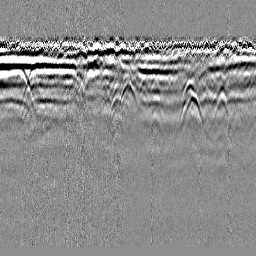cavity: (119, 77, 138, 108)
